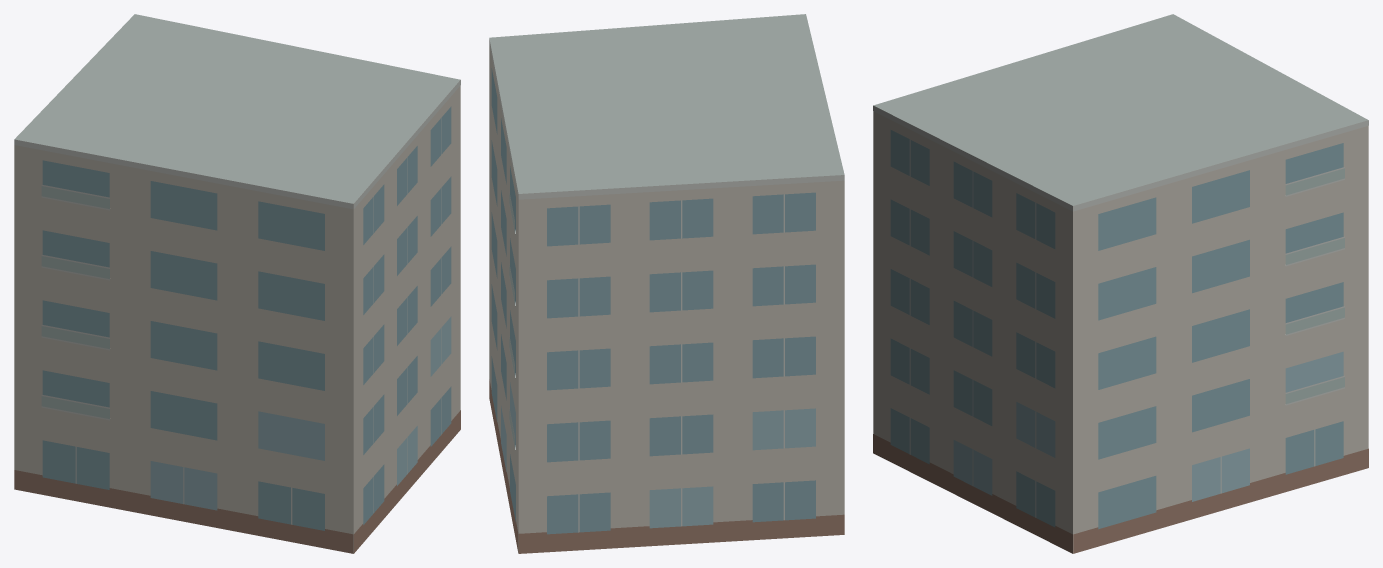
File: survey-upis-32596785.glb
3 views of the same model, side by side, from view 1: azimuth 30°, elevation 25°; view 2: azimuth 150°, elevation 25°; view 3: azimuth 270°, elevation 25° (orthographic). The views are drawn at different scales.
Visible parts, largest first — view 1: survey-upis-32596785.tmp; view 2: survey-upis-32596785.tmp; view 3: survey-upis-32596785.tmp.
Part boxes in pixels (<box>): survey-upis-32596785.tmp: <box>14,14,460,553</box>; survey-upis-32596785.tmp: <box>489,14,844,553</box>; survey-upis-32596785.tmp: <box>873,14,1368,553</box>.
Bounding box in the file's own units: 18.07 × 15.25 × 19.7.
